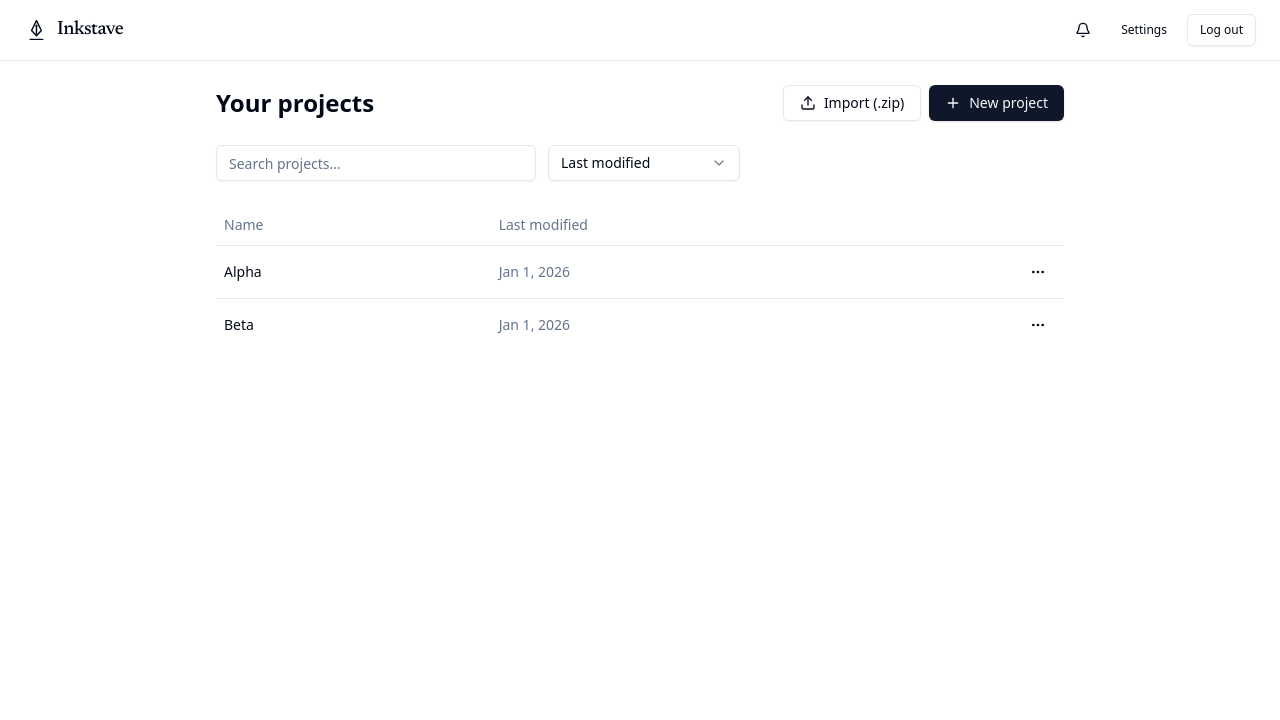
Test: ProjectsPage › deletes a project after confirmation
This screenshot has width=1280, height=720.
Expected: the link "Alpha" is shown, [224, 262, 262, 280]
Click the button named "Project actions" in the row of "Alpha": (1038, 272) [1020, 254, 1056, 290]
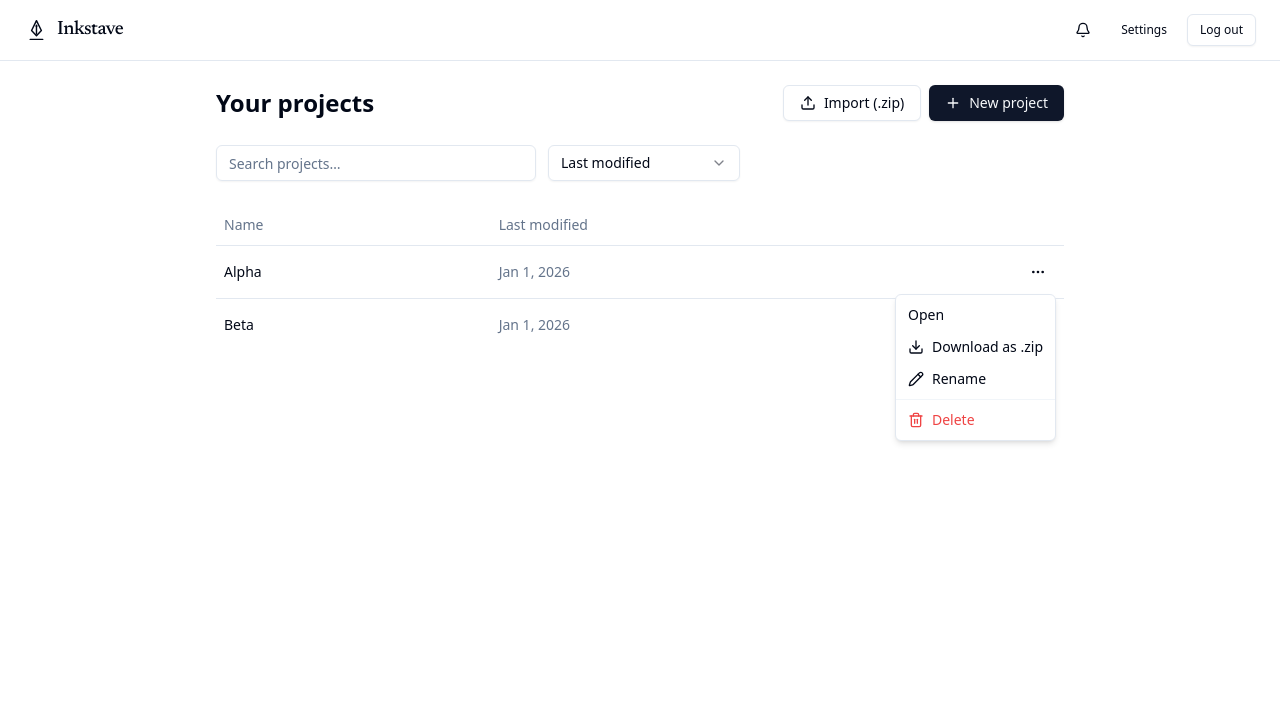
Click the menu item "Delete": (941, 420) [908, 410, 975, 429]
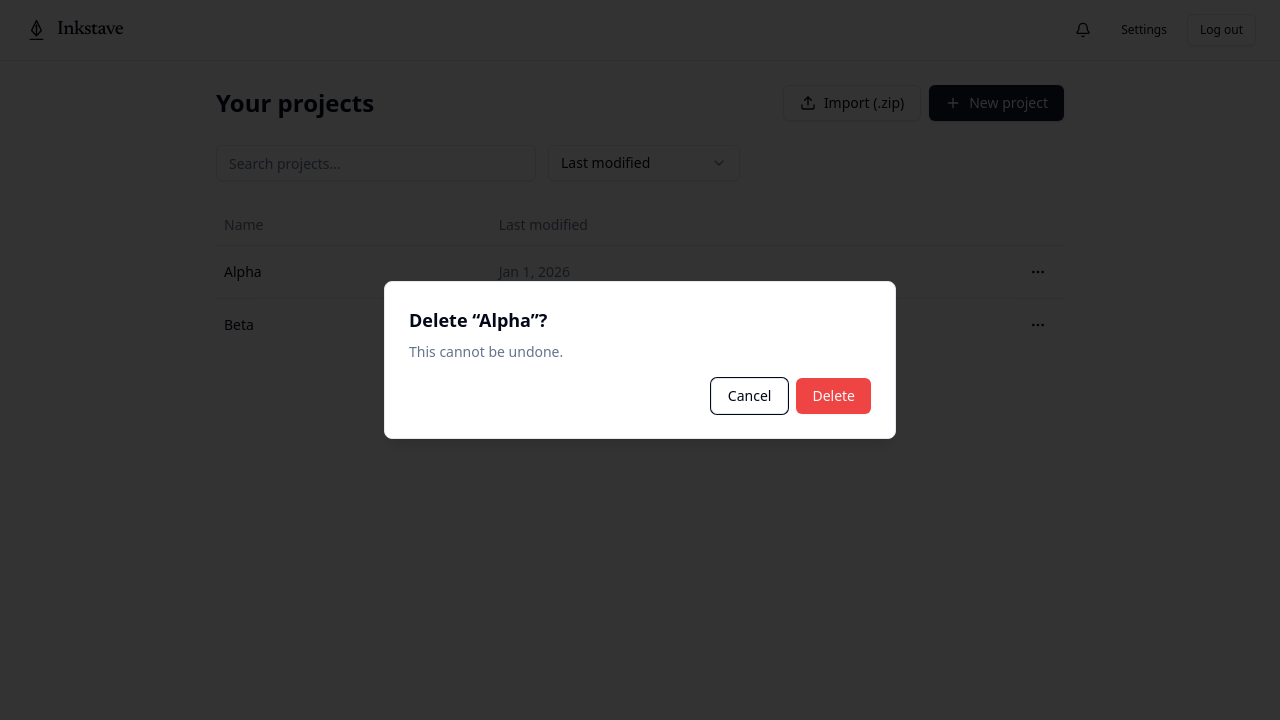
Click the button "Delete": (834, 396) [796, 378, 871, 414]
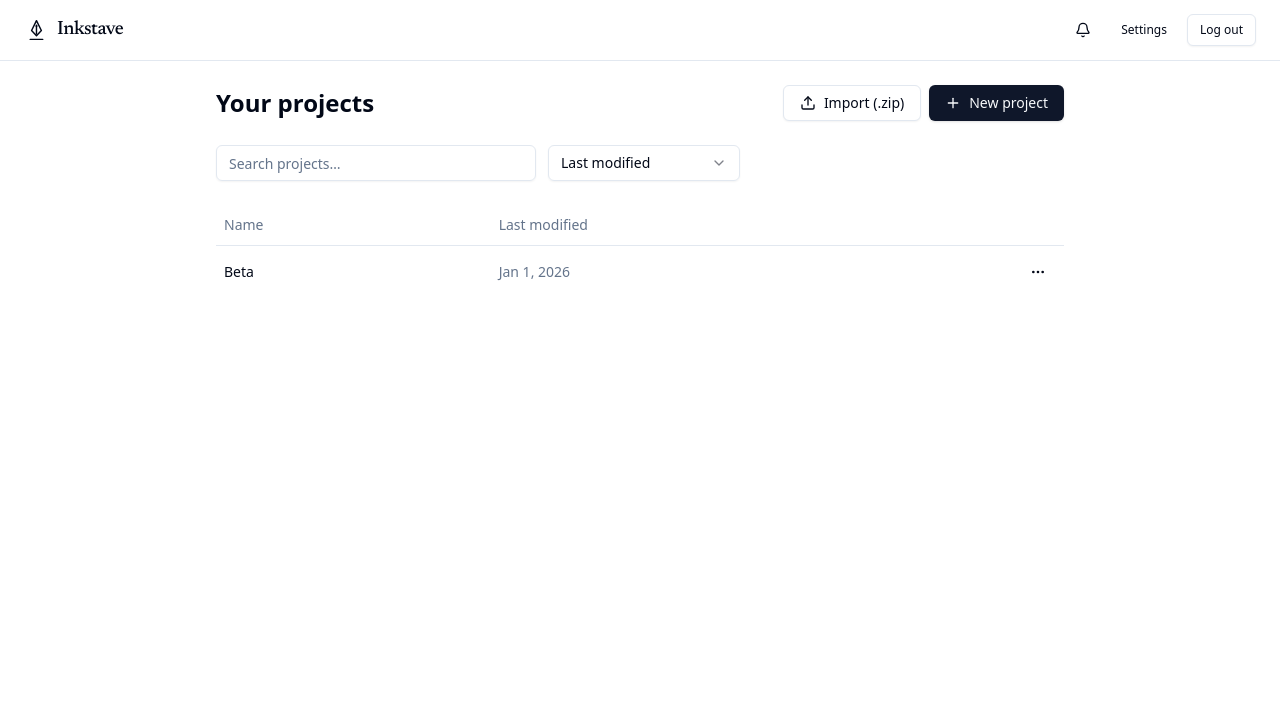
Expected: the link "Beta" is shown, [224, 262, 254, 280]
Now no links "Alpha" are shown
